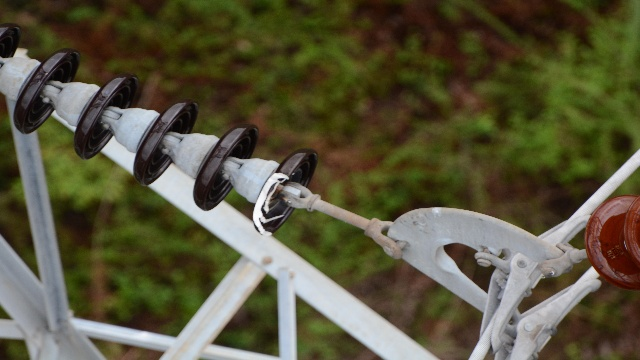broken_local: (251, 170, 290, 237)
insulator_unspecified: (0, 22, 319, 237), (585, 193, 639, 294)
